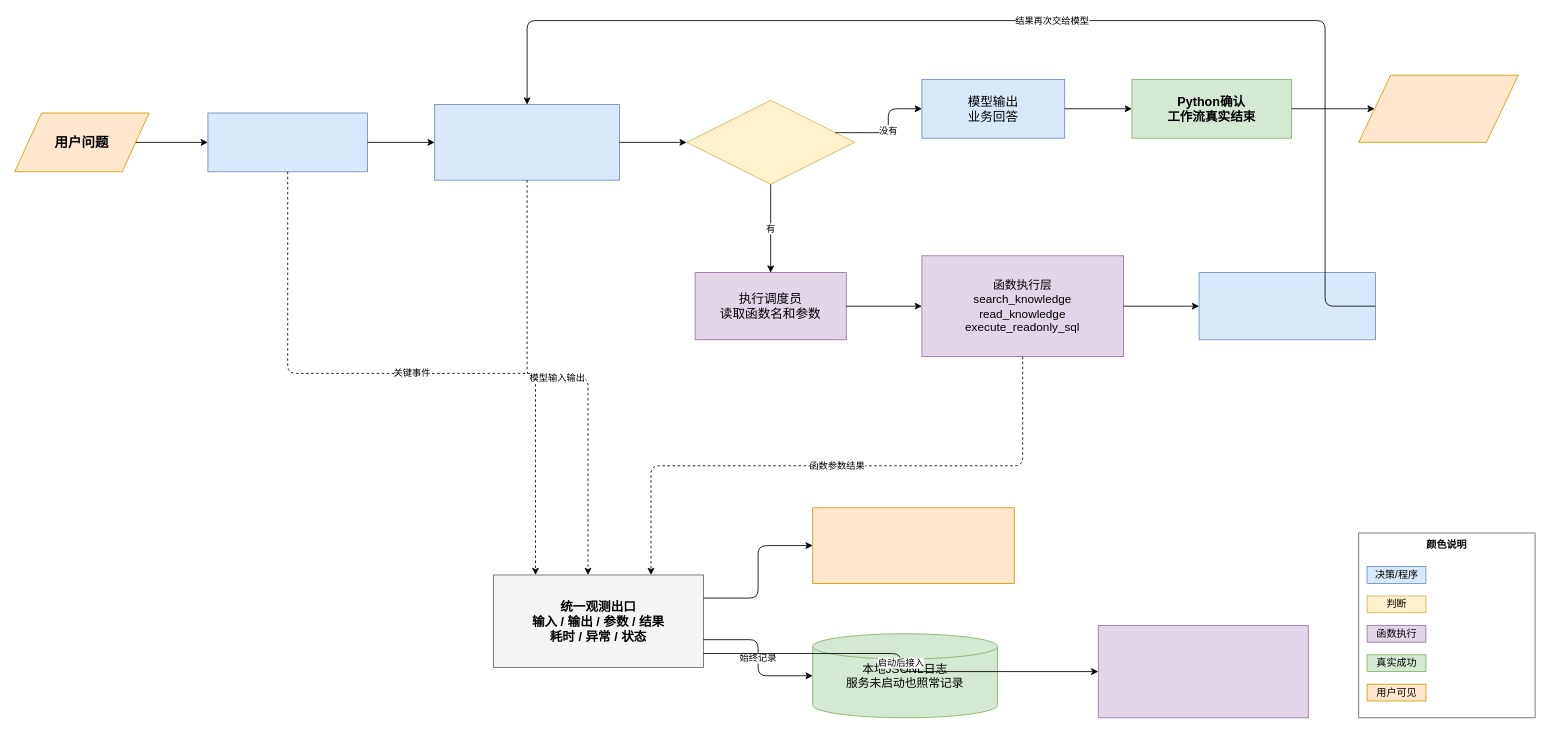
Image size: 1550x732. Some labels were removed from this diagram. The shapes that lost their labels are listed below. From the top down, each one's box as (x1, y1, x2, y2) in pixels, then its label:
(1358, 74, 1518, 142): 用户收到答案 和真实执行状态
(207, 112, 368, 172): Python运行时 接收本轮请求
(434, 104, 620, 180): 模型决策 查看messages和函数说明书
(686, 100, 855, 184): 模型是否返回 函数执行要求？
(1198, 272, 1376, 340): Python把实际结果 加入messages
(812, 507, 1014, 583): 用户实时进度 下一步 / 正在做 / 实际返回
(1097, 625, 1308, 718): Phoenix Trace 实际调用树 / 耗时 / 输入输出 按需一键启动
